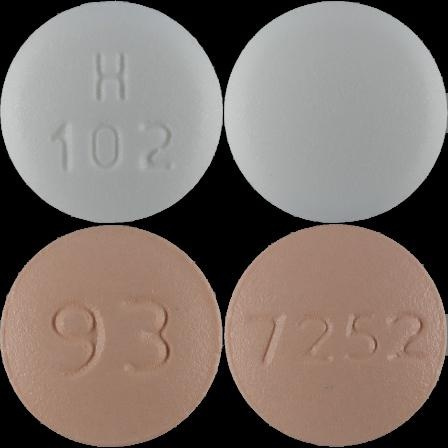68151-1442: (0, 0, 224, 224)
